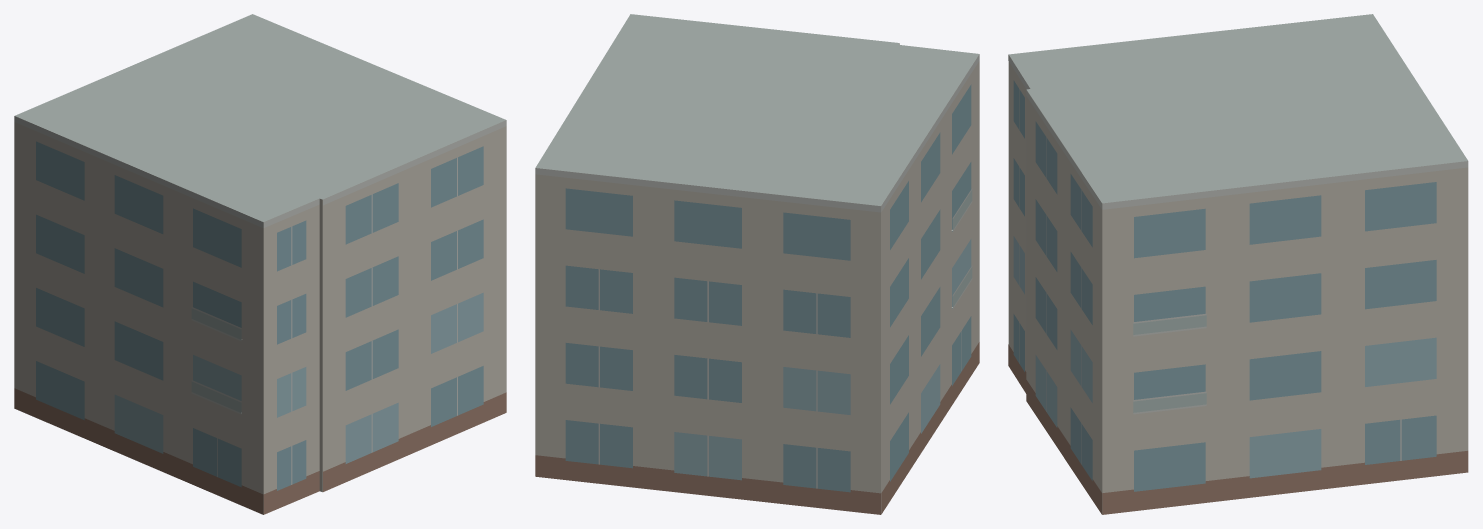
File: survey-upis-32680137.glb
3 views of the same model, side by side, from view 1: azimuth 30°, elevation 25°; view 2: azimuth 150°, elevation 25°; view 3: azimuth 270°, elevation 25° (orthographic). The views are drawn at different scales.
Visible parts, largest first — view 1: survey-upis-32680137.tmp; view 2: survey-upis-32680137.tmp; view 3: survey-upis-32680137.tmp.
Boxes of the visible parts, bbox=[...] form: survey-upis-32680137.tmp: bbox=[14, 14, 506, 514]; survey-upis-32680137.tmp: bbox=[535, 14, 979, 514]; survey-upis-32680137.tmp: bbox=[1008, 14, 1468, 514].
Bounding box in the file's own units: 15.4 × 11.8 × 15.8.
